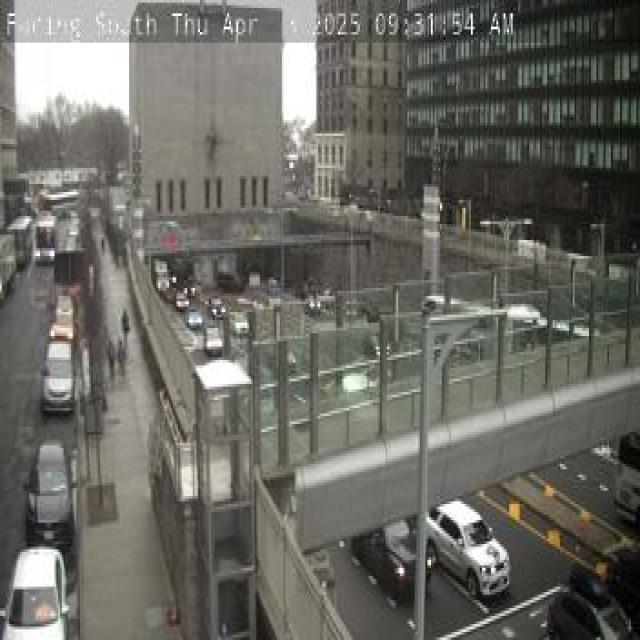open parking: (39, 350, 87, 468)
parkedCars: (0, 269, 100, 640)
